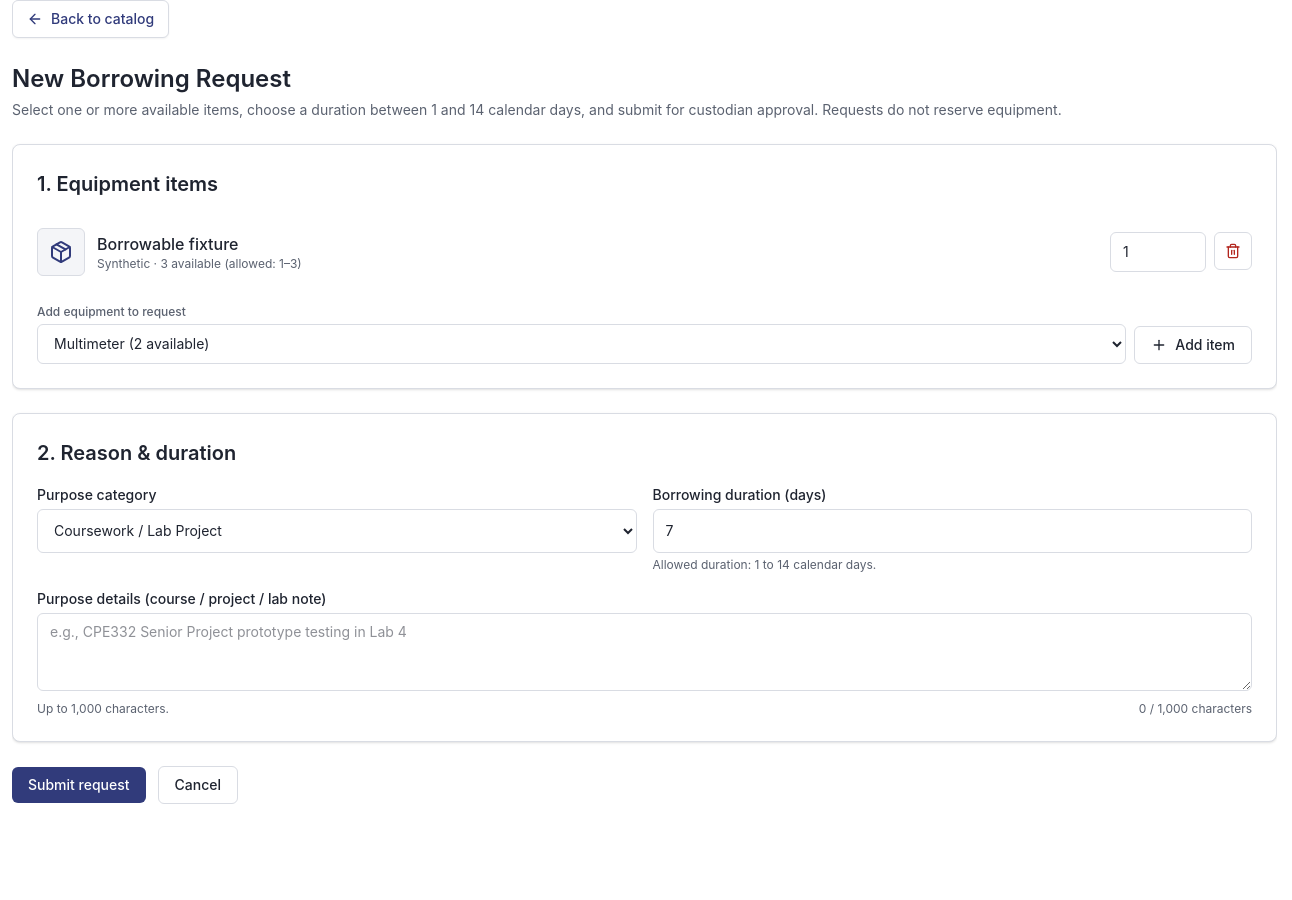
Scenario: F-04 / F-11 request creation & management UI › rejects invalid quantity 0 cleanly (UAT-07 hint)
This screenshot has width=1292, height=900.
Replace the text in the 1st number field with "0": [1158, 252] box [1110,232,1206,272]
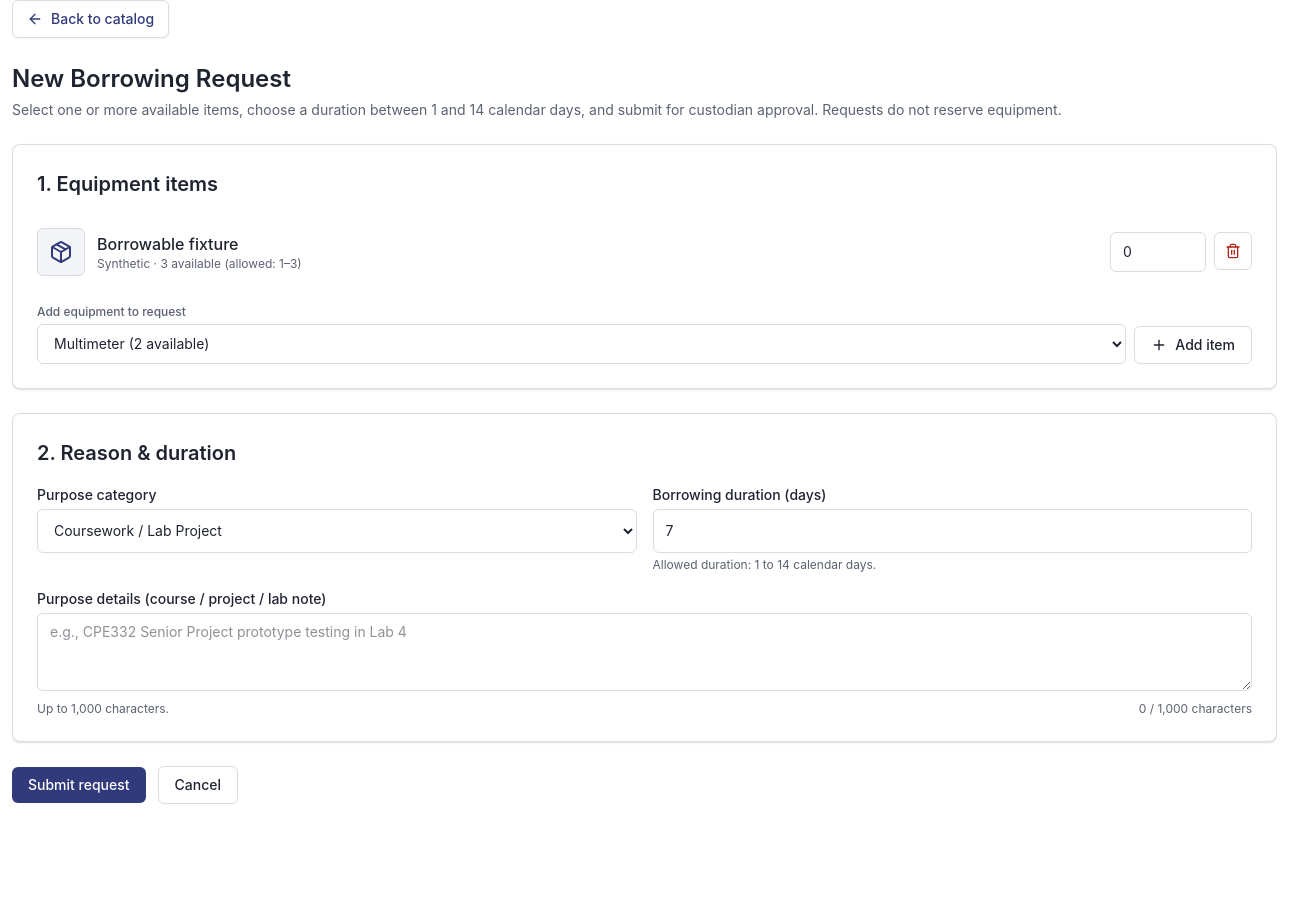
Click the button "Submit request": [79, 785] box [12,767,146,803]
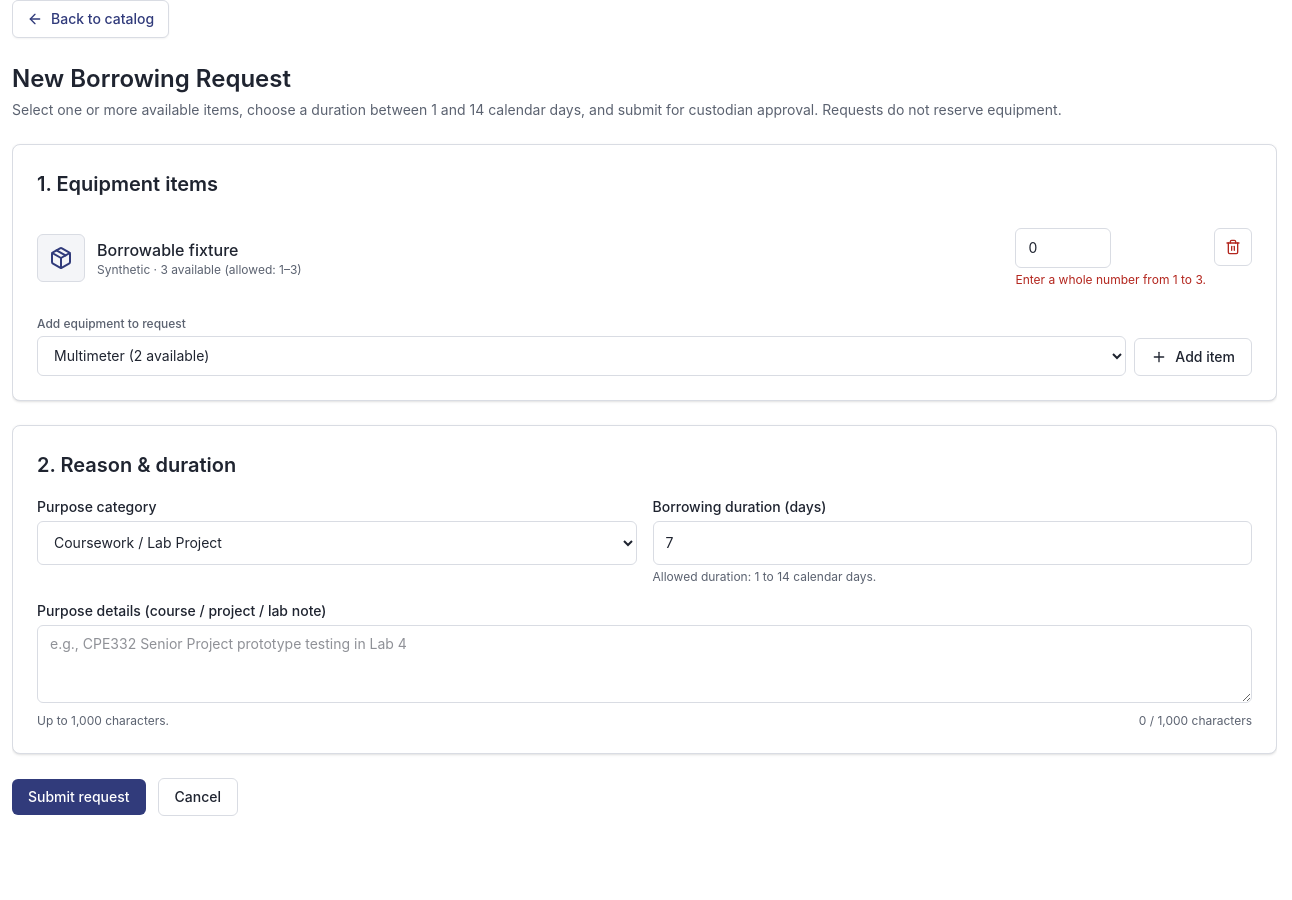
Expected: the text "Enter a whole number from 1 to 3." is shown, [1016,272,1206,288]
